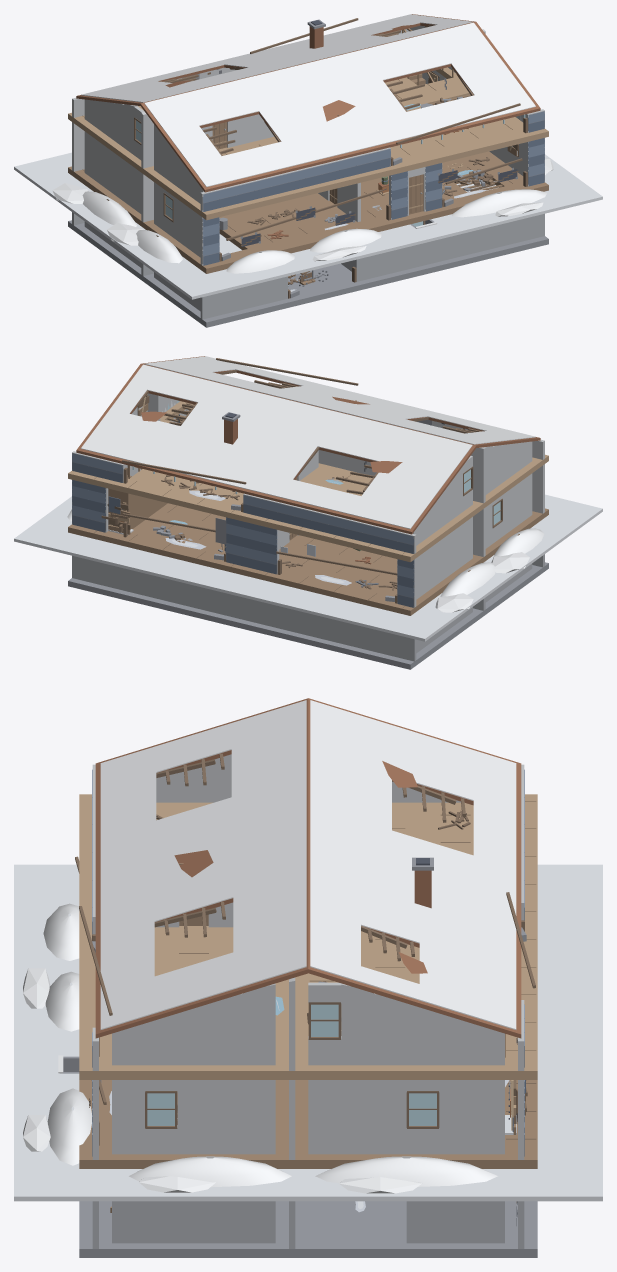
The model's file is house_full.glb.
3 renders of one model, top to bottom at view 1: azimuth 30°, elevation 25°; view 2: azimuth 150°, elevation 25°; view 3: azimuth 270°, elevation 25°, orthographic. The views are drawn at different scales.
Parts seen in each view (by area): view 1: roof_snow_1, exterior_snow, F1_floor, F2_floor, B1_wall_low, roof_snow_0, B1_floor, F2_wall_low, F1_wall_low, EXT_DRESS_F2_horizontal_siding, F1_wall_high, roof_panel_1 (+18 smaller); view 2: roof_snow_0, exterior_snow, F1_floor, B1_wall_low, F2_floor, roof_snow_1, F2_wall_low, B1_floor, EXT_DRESS_F1_horizontal_siding, EXT_DRESS_F2_horizontal_siding, F1_wall_low, roof_panel_0 (+15 smaller); view 3: roof_snow_0, roof_snow_1, exterior_snow, F2_floor, F2_wall_low, B1_floor, F1_wall_high, F1_wall_low, B1_wall_low, F1_floor, F2_wall_high, roof_panel_1 (+18 smaller).
Boxes of the visible parts, bbox=[...] form: roof_snow_1: bbox=[144, 22, 535, 187]; exterior_snow: bbox=[14, 152, 602, 299]; F1_floor: bbox=[68, 151, 548, 273]; F2_floor: bbox=[68, 67, 548, 220]; B1_wall_low: bbox=[72, 212, 544, 319]; roof_snow_0: bbox=[81, 14, 472, 102]; B1_floor: bbox=[68, 220, 548, 327]; F2_wall_low: bbox=[72, 26, 544, 211]; F1_wall_low: bbox=[72, 147, 544, 265]; EXT_DRESS_F2_horizontal_siding: bbox=[203, 111, 544, 211]; F1_wall_high: bbox=[72, 70, 544, 244]; roof_panel_1: bbox=[140, 22, 540, 192]; roof_snow_0: bbox=[81, 364, 472, 529]; exterior_snow: bbox=[14, 494, 602, 641]; F1_floor: bbox=[68, 503, 548, 615]; B1_wall_low: bbox=[72, 554, 544, 661]; F2_floor: bbox=[68, 401, 548, 562]; roof_snow_1: bbox=[144, 356, 535, 444]; F2_wall_low: bbox=[72, 396, 544, 553]; B1_floor: bbox=[68, 562, 548, 669]; EXT_DRESS_F1_horizontal_siding: bbox=[72, 480, 413, 607]; EXT_DRESS_F2_horizontal_siding: bbox=[72, 453, 413, 553]; F1_wall_low: bbox=[72, 467, 544, 607]; roof_panel_0: bbox=[76, 364, 476, 534]; roof_snow_0: bbox=[310, 700, 516, 1029]; roof_snow_1: bbox=[100, 700, 306, 1029]; exterior_snow: bbox=[14, 864, 602, 1201]; F2_floor: bbox=[79, 794, 537, 1079]; F2_wall_low: bbox=[92, 764, 524, 1070]; B1_floor: bbox=[79, 1201, 537, 1257]; F1_wall_high: bbox=[92, 1080, 524, 1124]; F1_wall_low: bbox=[92, 1119, 524, 1159]; B1_wall_low: bbox=[92, 1208, 524, 1248]; F1_floor: bbox=[79, 1080, 537, 1168]; F2_wall_high: bbox=[124, 754, 492, 1035]; roof_panel_1: bbox=[95, 698, 308, 1038].
Bounding box in the file's own units: 24.04 × 9.89 × 18.
